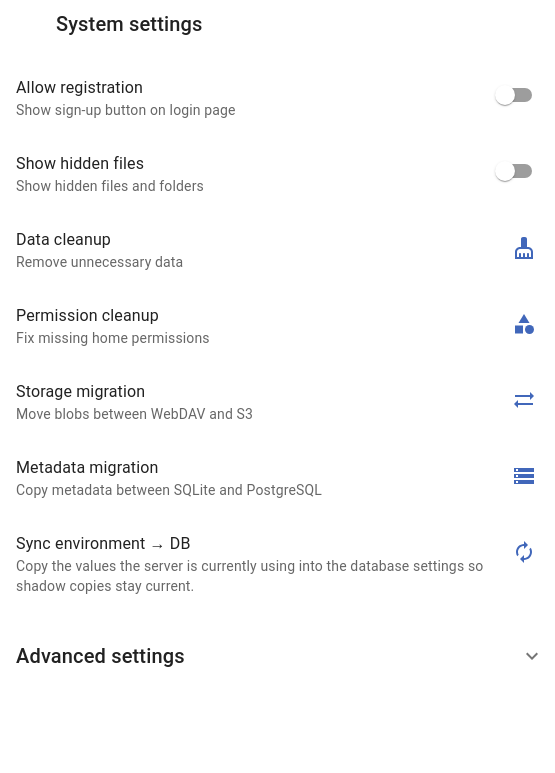
Test: SystemSettingsContent › registration toggle auto-saves on change
Expected: the text "Allow registration" is shown, x1=16 y1=78 x2=143 y2=97
Click the 1st switch at (505, 95), box x1=495 y1=85 x2=515 y2=105
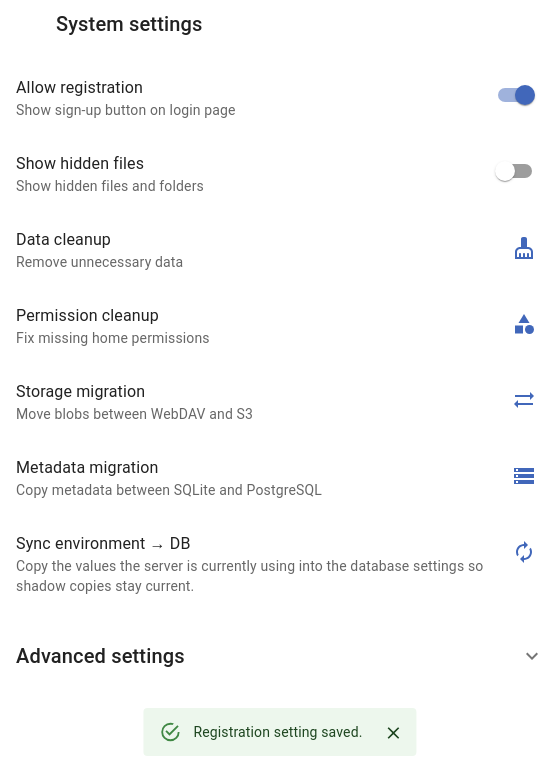
Expected: the text "Registration setting saved." is shown, x1=193 y1=724 x2=363 y2=740
